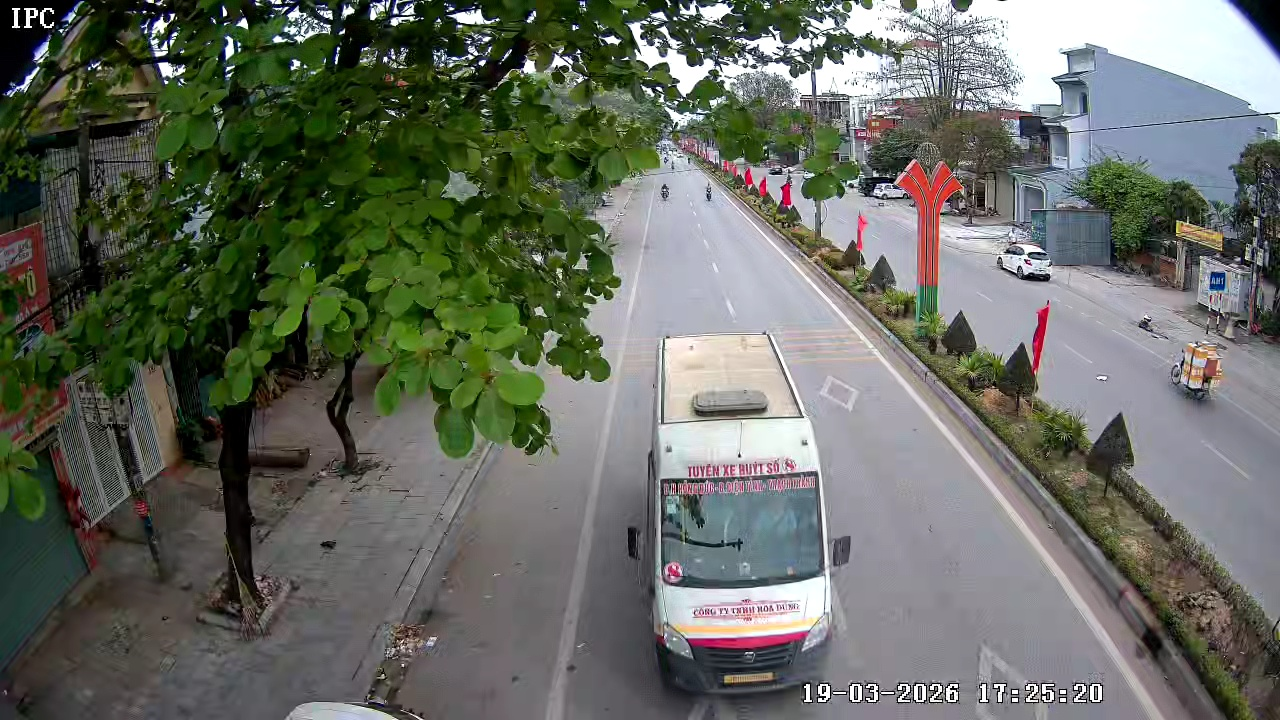bus: (626, 328, 849, 698)
car: (996, 239, 1054, 282)
motorbike: (1169, 338, 1224, 405), (656, 182, 676, 200), (702, 181, 716, 201)
